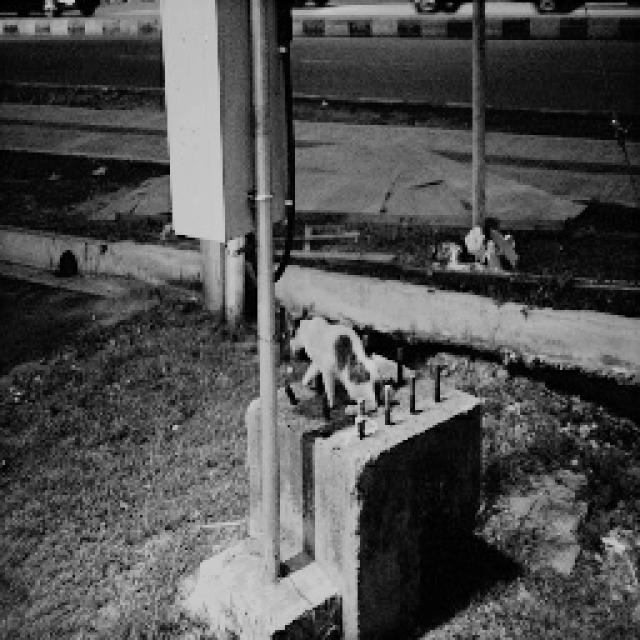cat: (264, 274, 405, 431)
